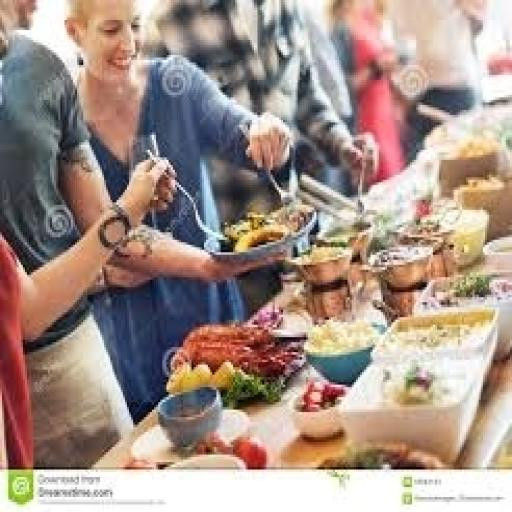eating: (58, 0, 294, 422), (0, 0, 177, 467), (143, 0, 378, 197)
